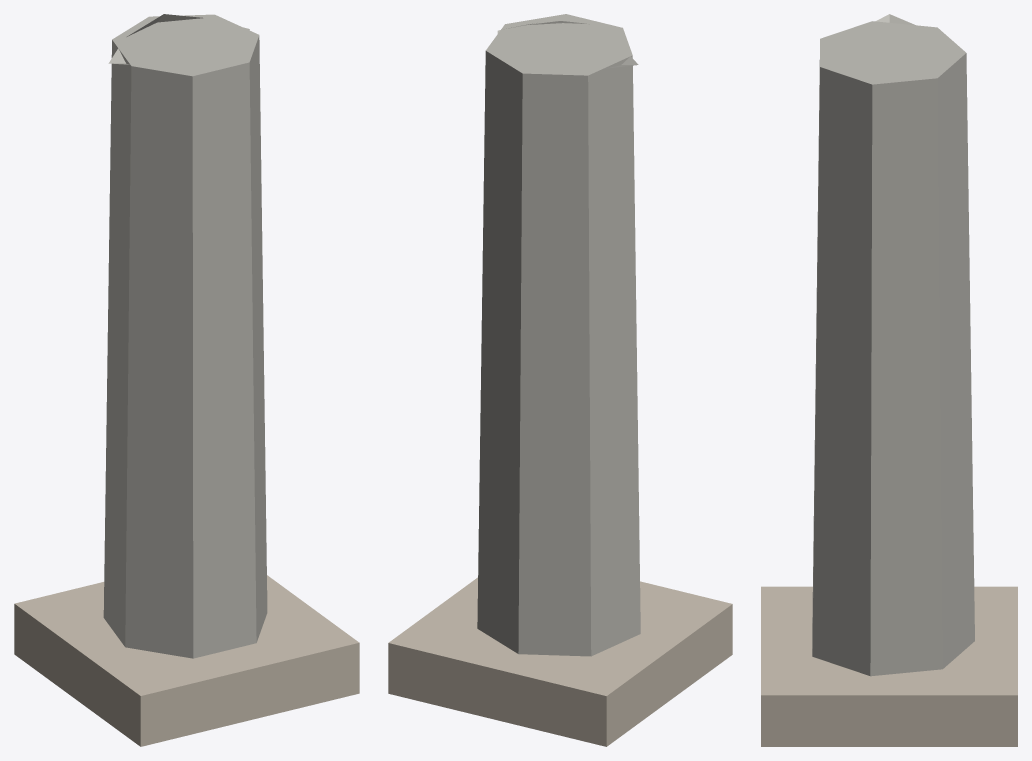
File: column_v32.glb
3 renders of one model, left to right at view 1: azimuth 30°, elevation 25°; view 2: azimuth 150°, elevation 25°; view 3: azimuth 270°, elevation 25°, orthographic.
Visible parts, largest first — view 1: lod0; view 2: lod0; view 3: lod0.
Boxes of the visible parts, left/top/right/bottom form: lod0: left=14, top=14, right=359, bottom=746; lod0: left=388, top=14, right=732, bottom=746; lod0: left=761, top=14, right=1017, bottom=746.
Size of what is drawn, in the model's own units: 0.72 by 2.06 by 0.72.
